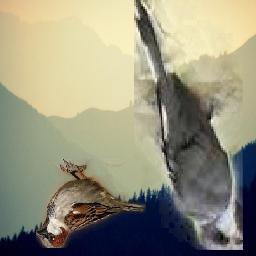Cuckoo: (135, 0, 244, 250)
Sparrow: (36, 160, 146, 249)
